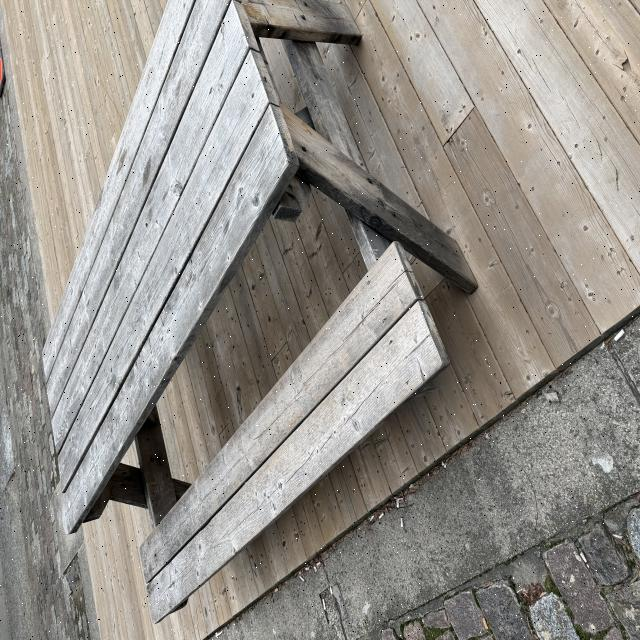Bench: (30, 62, 477, 592)
